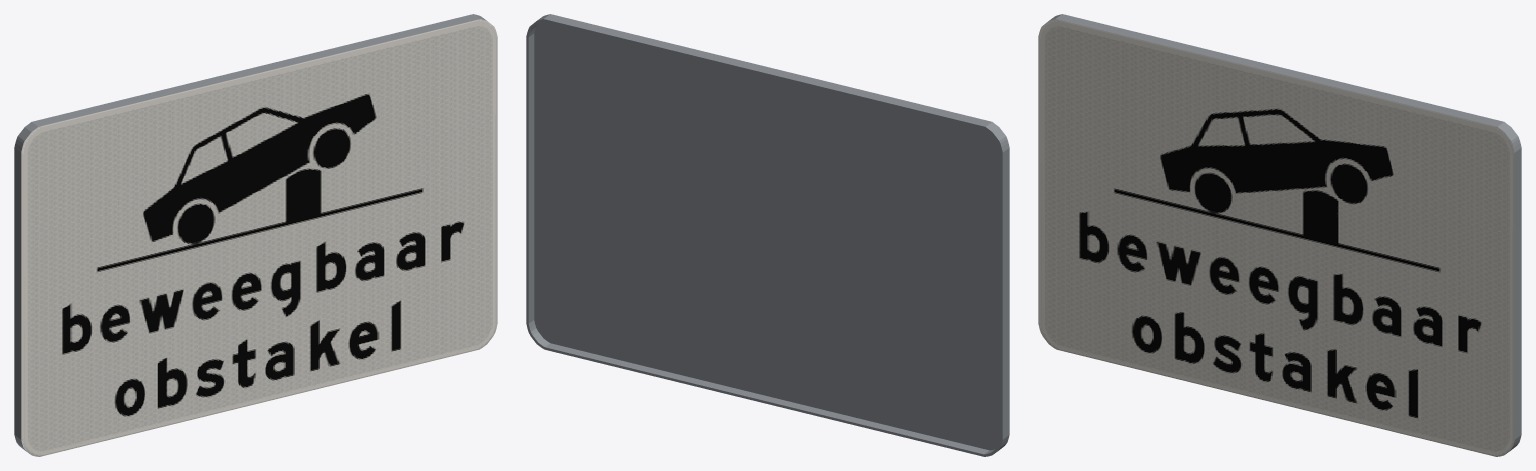
3 views of the same model, side by side, from view 1: azimuth 30°, elevation 25°; view 2: azimuth 150°, elevation 25°; view 3: azimuth 330°, elevation 25° (orthographic).
Parts seen in each view (by area): view 1: cat_00f56832c471b763; view 2: cat_00f56832c471b763; view 3: cat_00f56832c471b763.
Boxes of the visible parts, box(x1,y1,x2,y2) form: cat_00f56832c471b763: box(14, 14, 497, 456); cat_00f56832c471b763: box(526, 14, 1009, 456); cat_00f56832c471b763: box(1038, 14, 1521, 456).
Bounding box in the file's own units: 0.6 × 0.015 × 0.3976.
2 materials, 1 textured.
